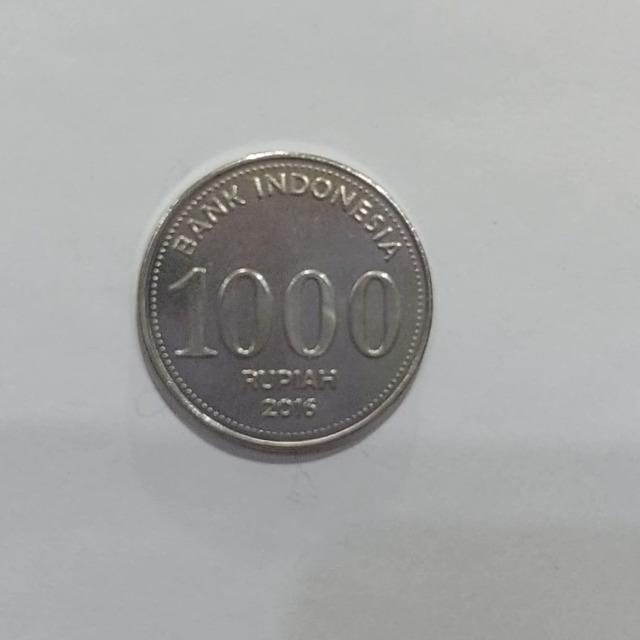Rp100: (134, 148, 435, 461)
